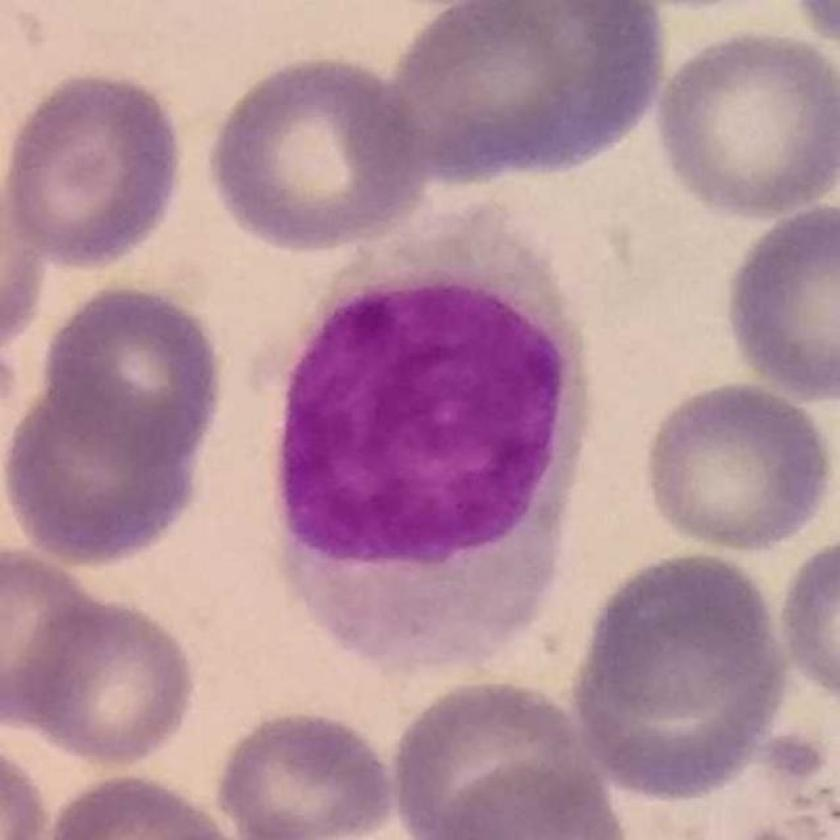monocyte: (272, 206, 600, 676)
